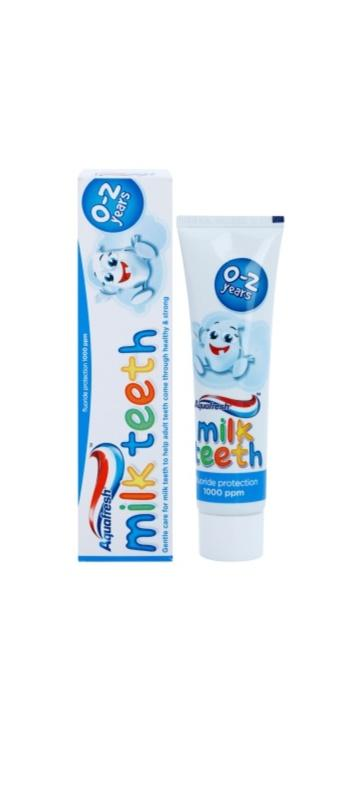toothpaste: (167, 198, 290, 567)
